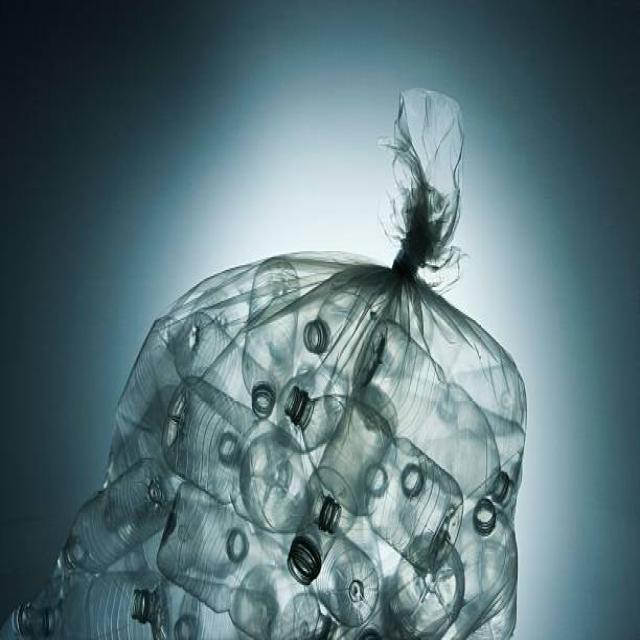plastic: (35, 306, 507, 616)
